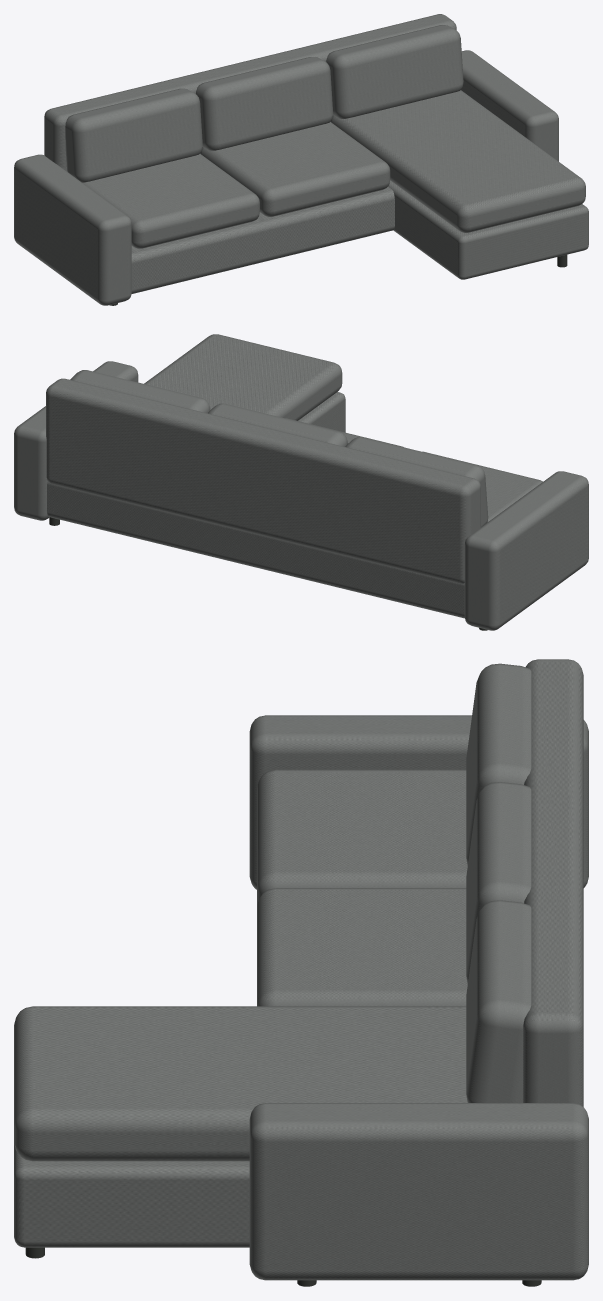
The model's file is kivik-chaise.glb.
The picture shows the model from 3 angles, top to bottom: view 1: azimuth 30°, elevation 25°; view 2: azimuth 150°, elevation 25°; view 3: azimuth 270°, elevation 25°; orthographic projection. The views are drawn at different scales.
Parts seen in each view (by area): view 1: KIVIK Sofa with chaise; view 2: KIVIK Sofa with chaise; view 3: KIVIK Sofa with chaise.
Part boxes in pixels (x1,y1,x2,y2): KIVIK Sofa with chaise: [14, 14, 588, 305]; KIVIK Sofa with chaise: [14, 334, 588, 630]; KIVIK Sofa with chaise: [14, 659, 588, 1286].
Size of the model in its own units: 2.8 by 0.83 by 1.63.
Materials: 2 (2 with a texture image).
